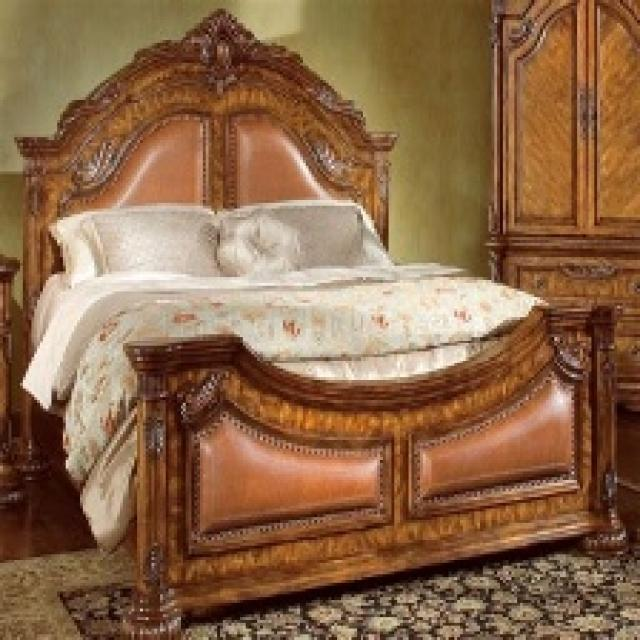Bed: (14, 6, 629, 637)
